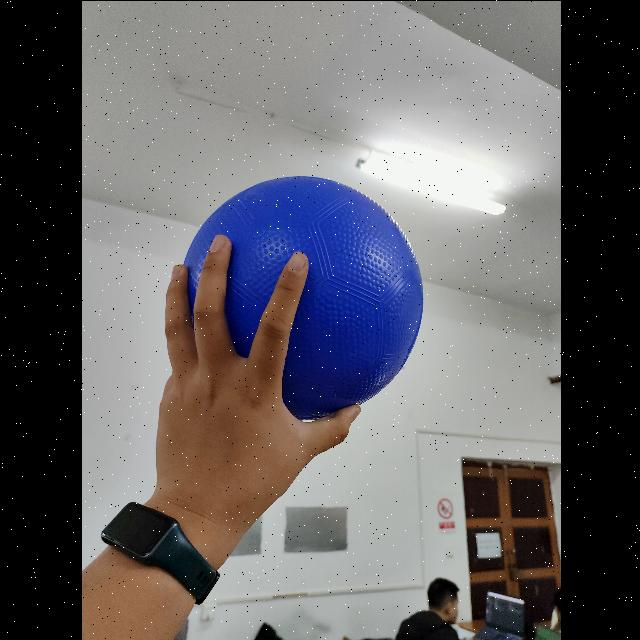B: (176, 170, 427, 422)
